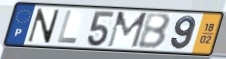5: (86, 10, 117, 48)
9: (168, 14, 197, 52)
B: (136, 13, 172, 51)
L: (55, 9, 79, 45)
M: (105, 11, 149, 49)
N: (25, 8, 62, 45)
